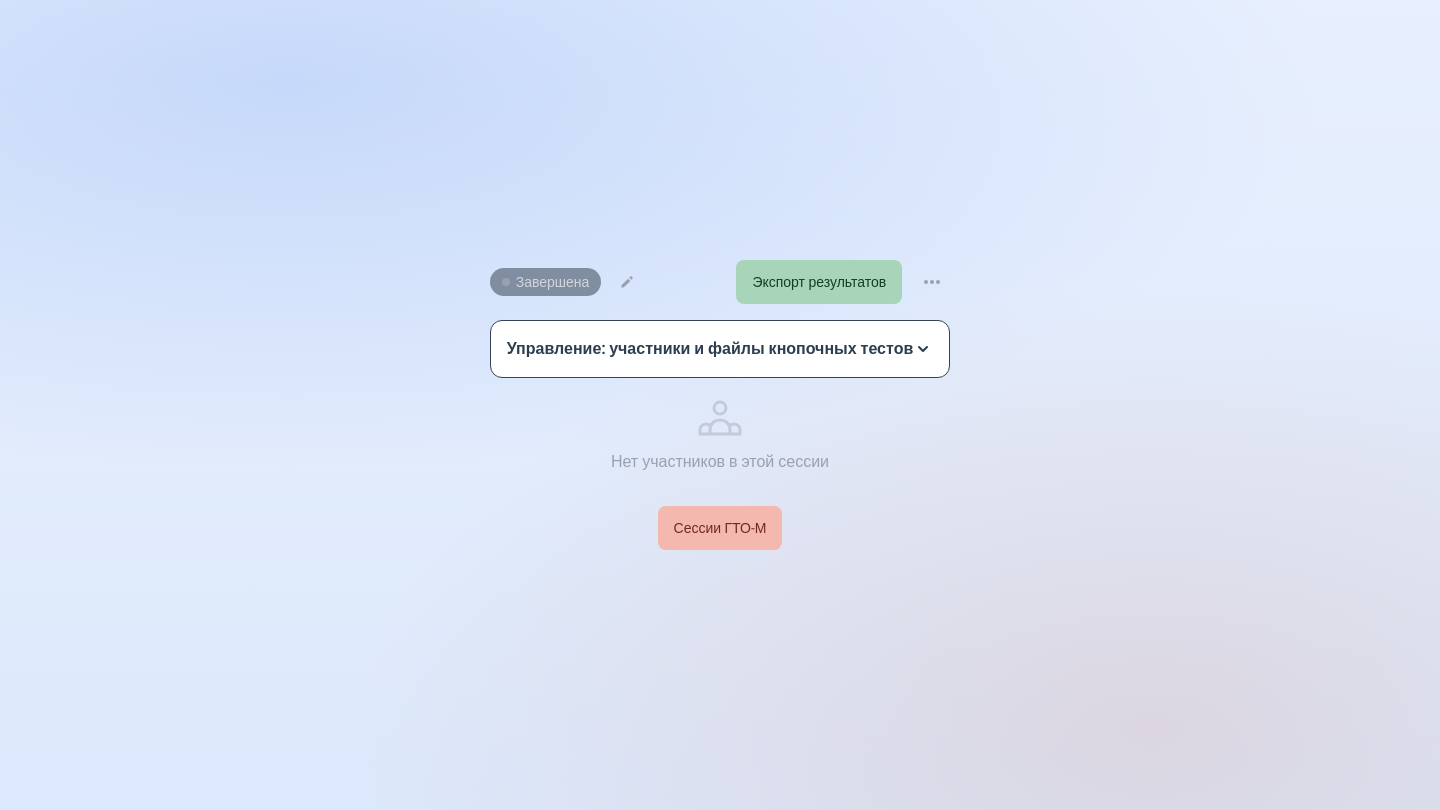
Test: /admin/gto/[id] — удаление завершённой сессии › кнопка «Удалить сессию» доступна в меню завершённой сессии
Click the button named "Действия с сессией".
click(932, 282)  # box x1=914 y1=264 x2=950 y2=300
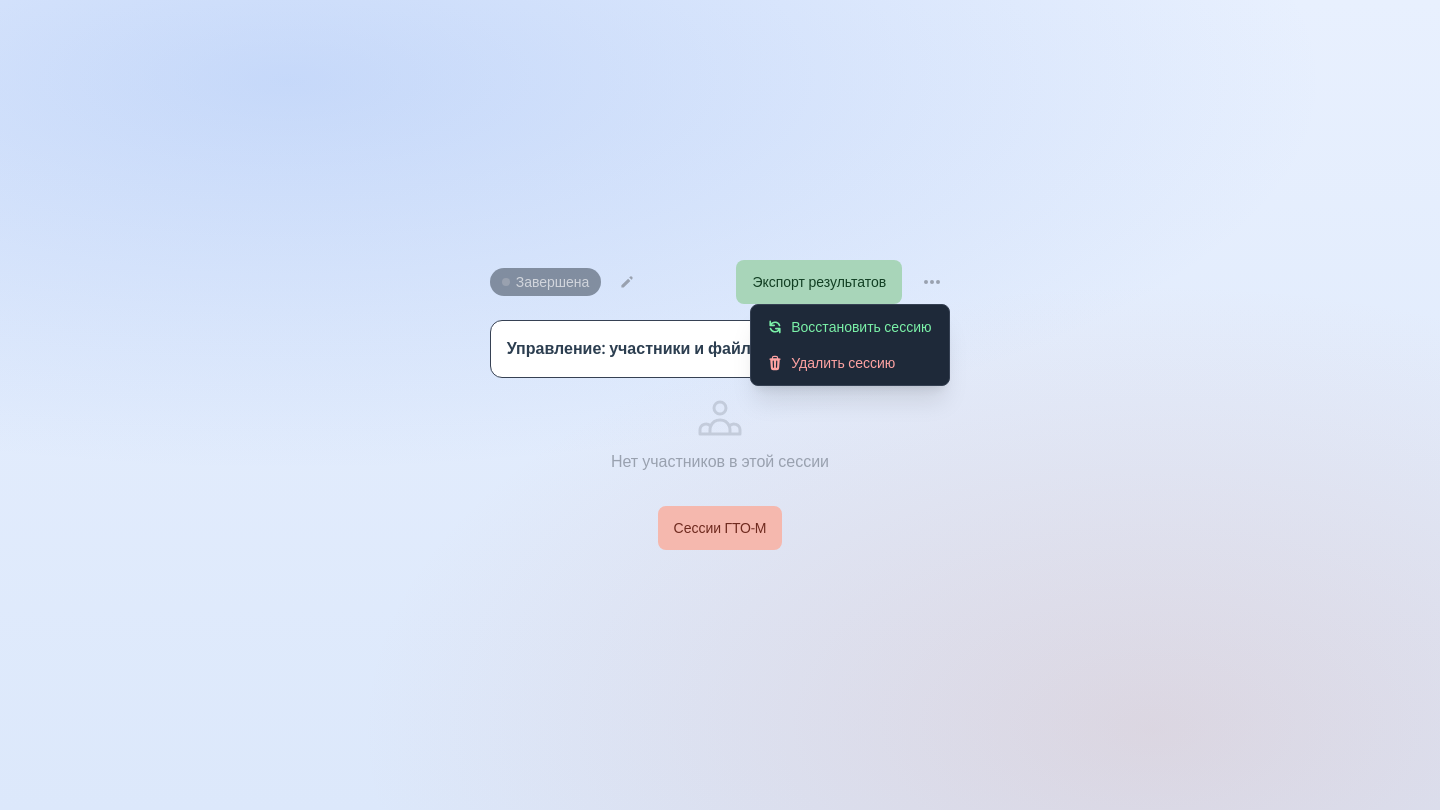
Now the button "Удалить сессию" is shown, box x1=751 y1=345 x2=949 y2=381
